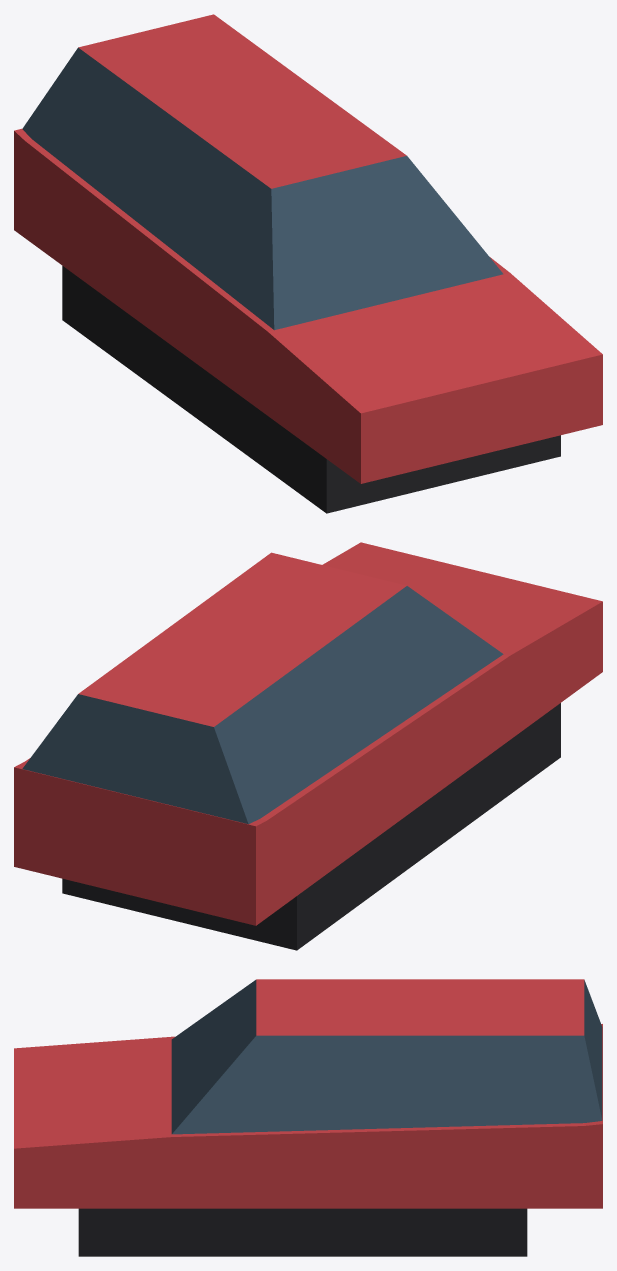
Rendered from 351_far.fbx.
3 renders of one model, top to bottom at view 1: azimuth 30°, elevation 25°; view 2: azimuth 150°, elevation 25°; view 3: azimuth 270°, elevation 25°, orthographic. The views are drawn at different scales.
Parts seen in each view (by area): view 1: 351_far; view 2: 351_far; view 3: 351_far.
Boxes of the visible parts, x1,y1,x2,y2 form: 351_far: (14, 14, 602, 513); 351_far: (14, 542, 602, 950); 351_far: (14, 979, 602, 1256).
Bounding box in the file's own units: 1.91 × 1.78 × 4.74.
